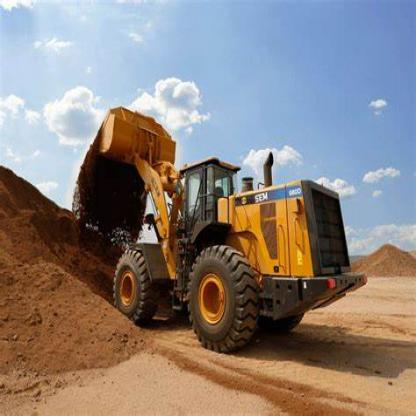bull_dozer/loader/grader: (75, 93, 379, 355)
